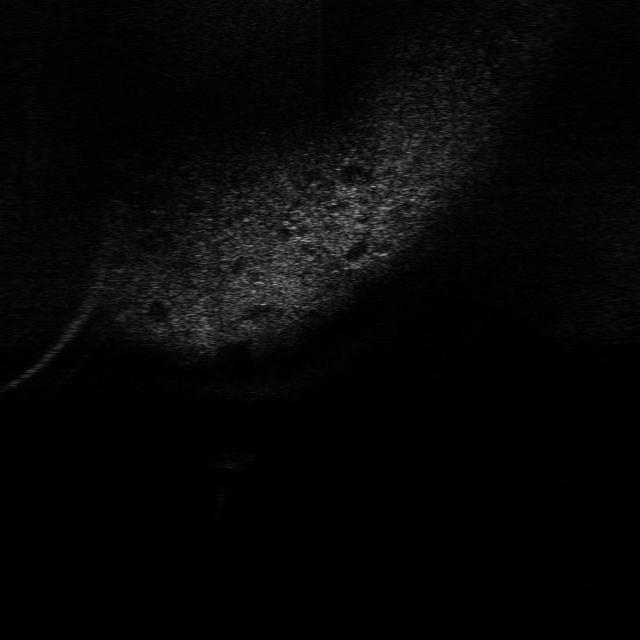cube: (202, 447, 257, 473)
